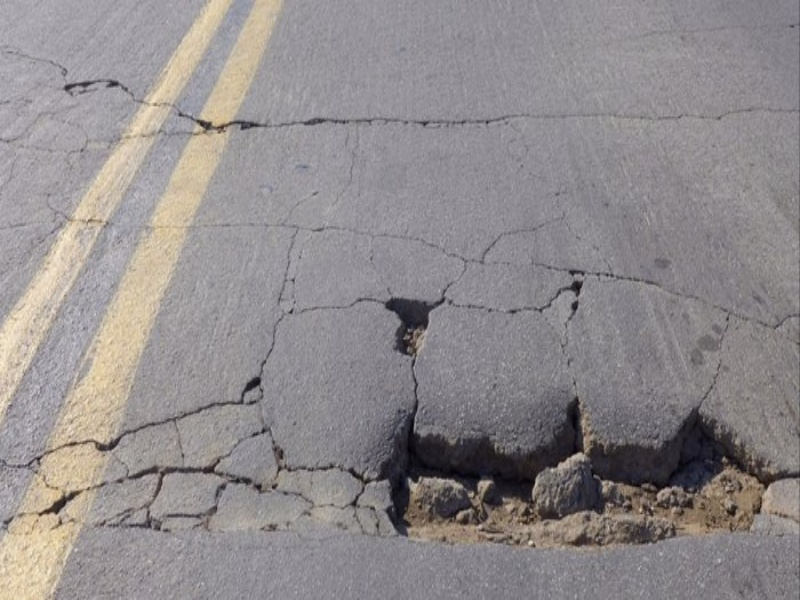pothole: (376, 393, 788, 550), (374, 290, 434, 357)
